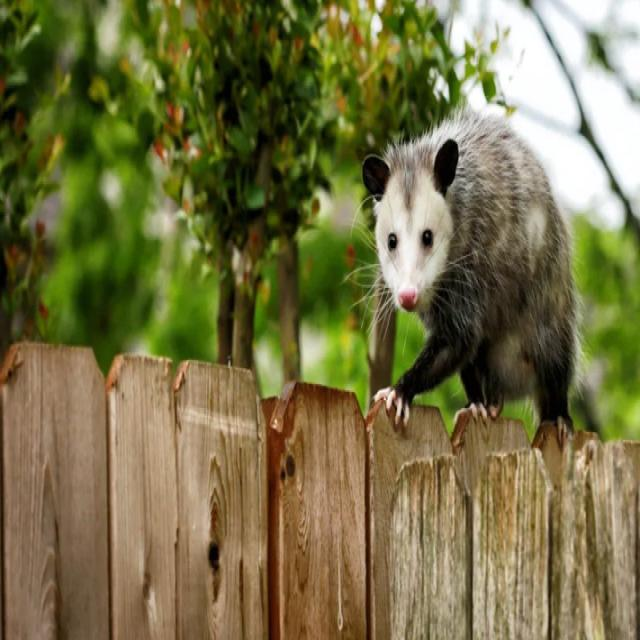Possum: (358, 102, 586, 453)
